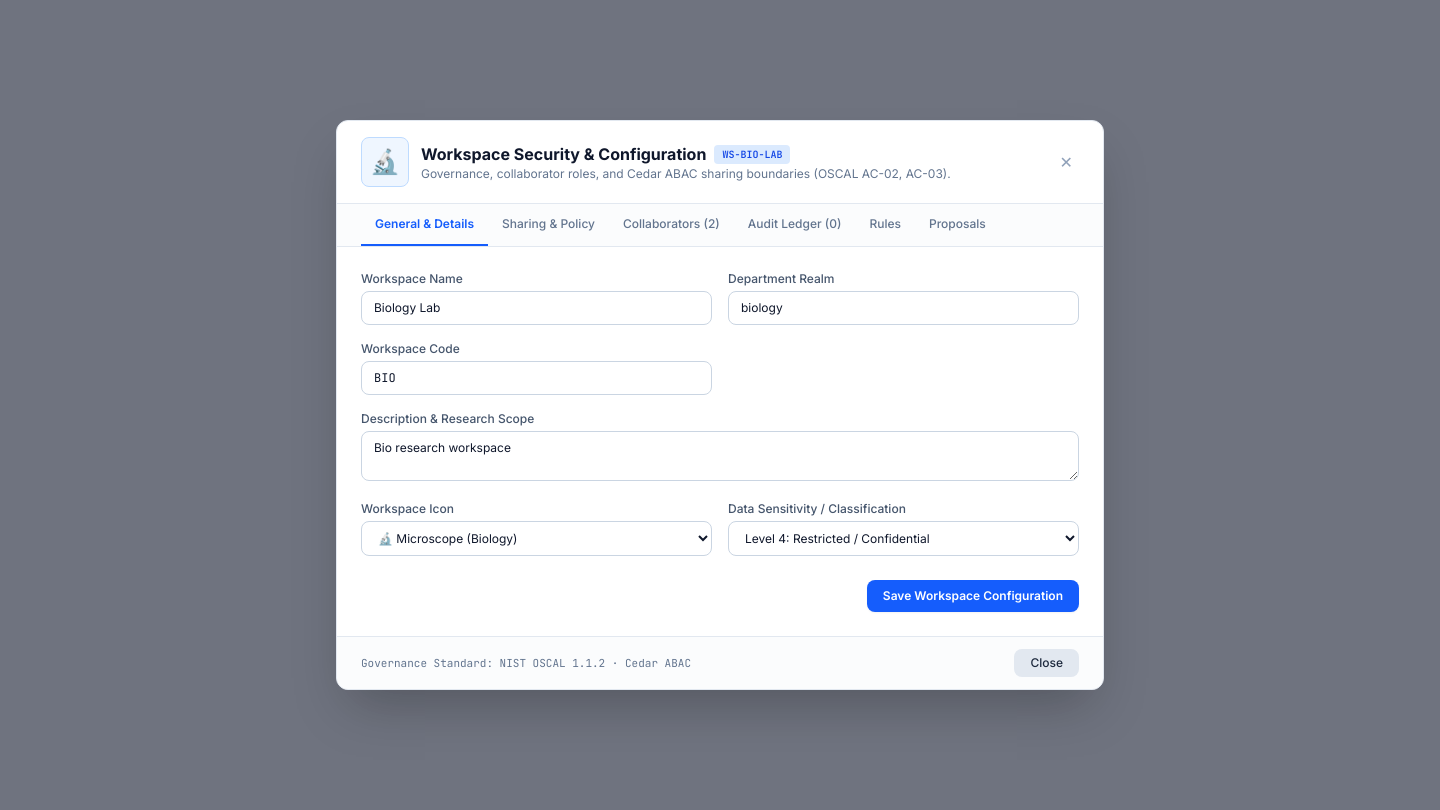
Test: Workspace Guards Screen (Phase 3) › 1. Adding a rule shows the sentence preview, then the impact list, and Save stays disabled until a reason is typed
The width and height of the screenshot is (1440, 810).
Note: Switch to Rules tab
Click the button with test id "guard-rules" at (885, 225), box [855,204,915,246]
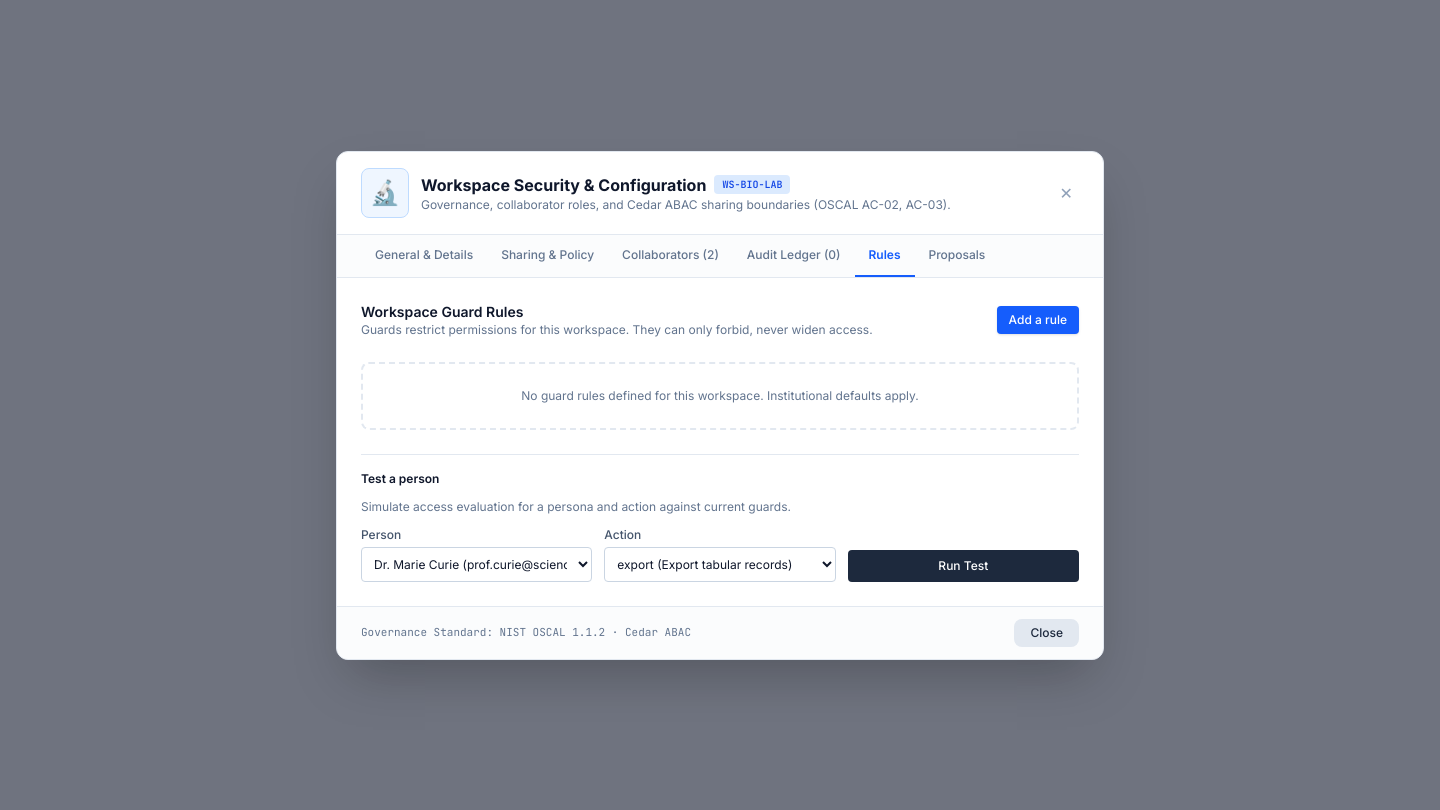
Note: Click Add a rule
Click the button with test id "add-rule-btn" at (1038, 320), box [997,306,1079,334]
(page scrolled)
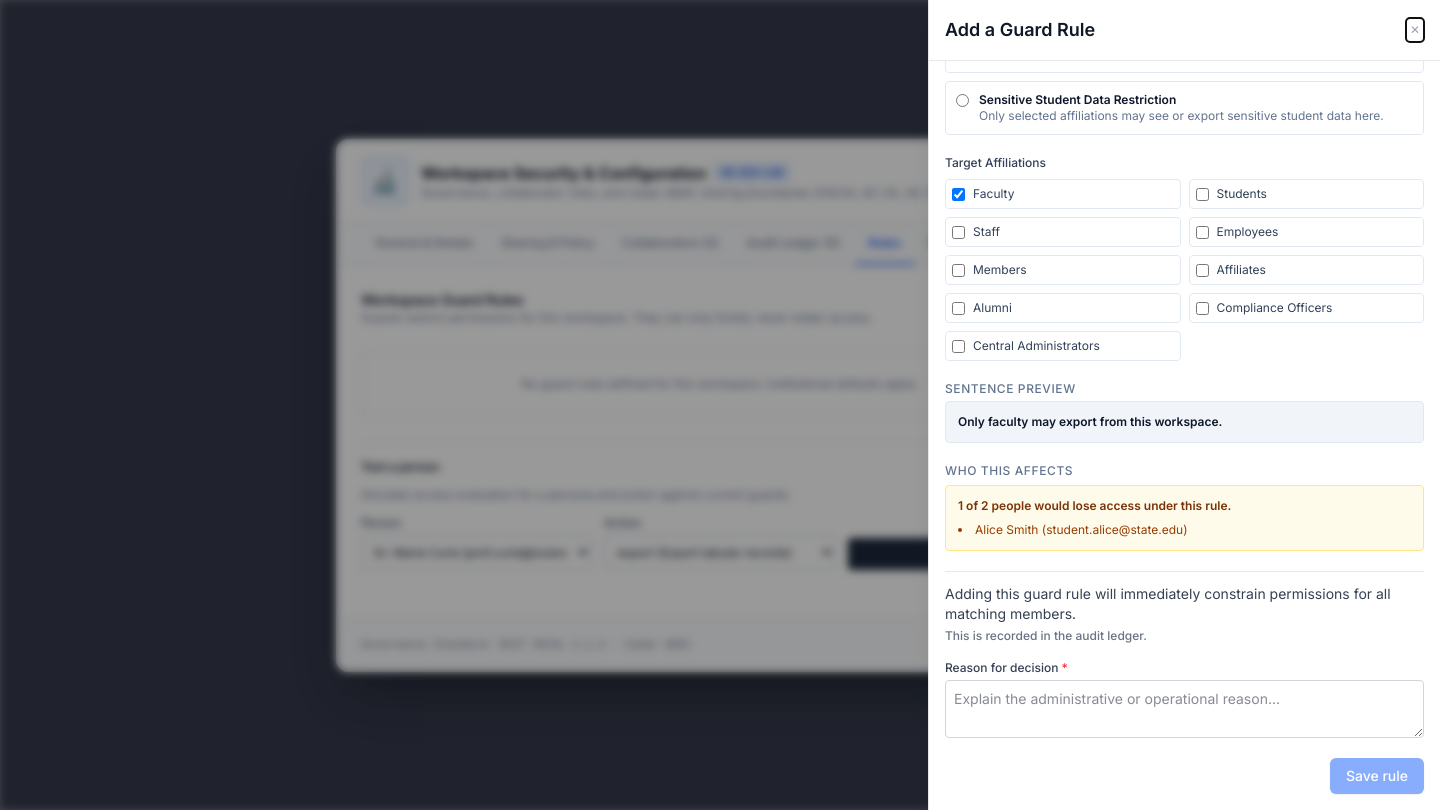
Expected: the text with test id "sentence-preview" shows "Only faculty may export from this workspace", [958,414,1222,429]
Expected: the element with test id "impact-summary" shows "would lose access", [989,498,1231,513]
Expected: the button "Save rule" is disabled, [1330,758,1424,794]
Note: Type a reason
Type "FERPA compliance update" into the text box labelled "Reason for decision *" at (1184, 709), box [945,680,1424,738]
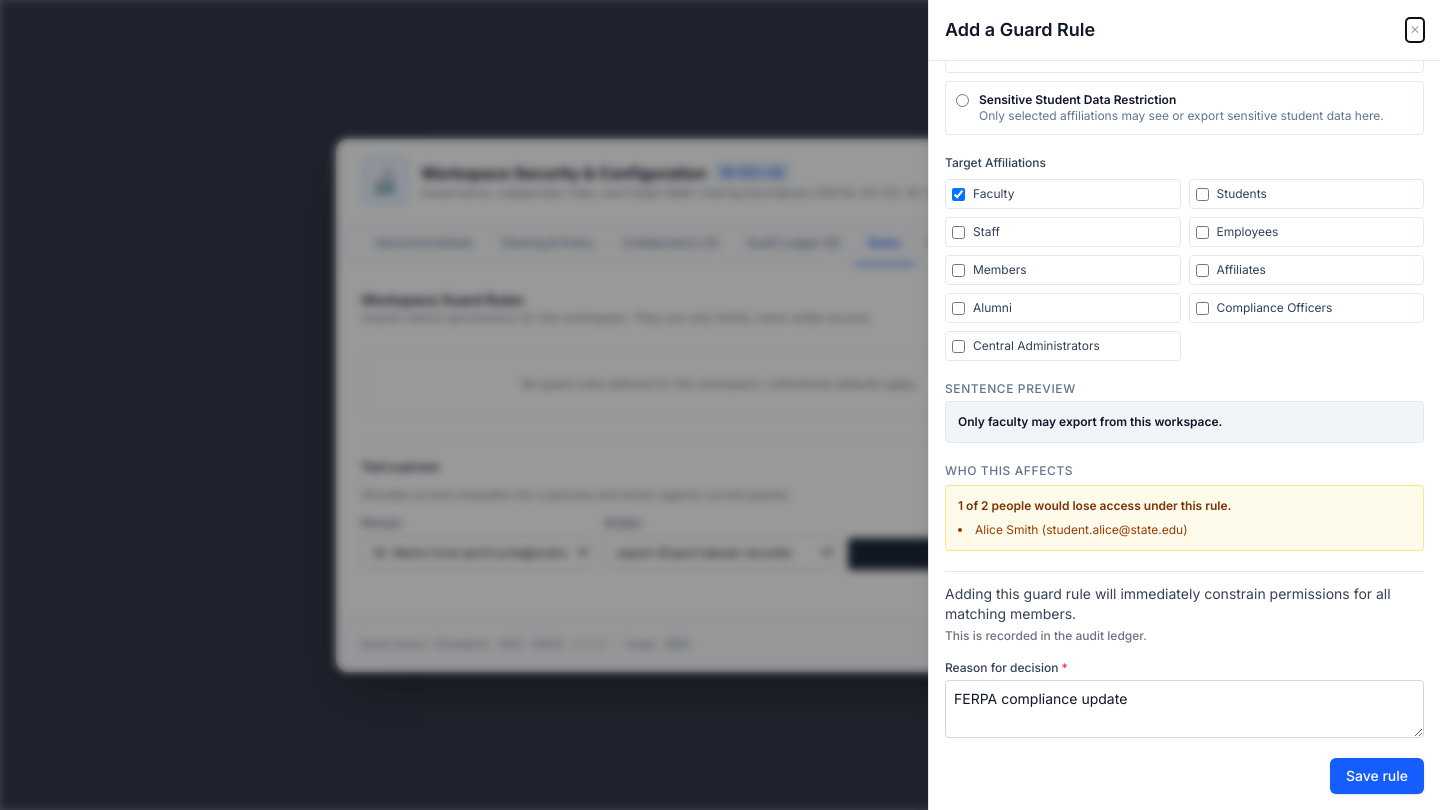
Expected: the button "Save rule" is enabled, [1330,758,1424,794]
